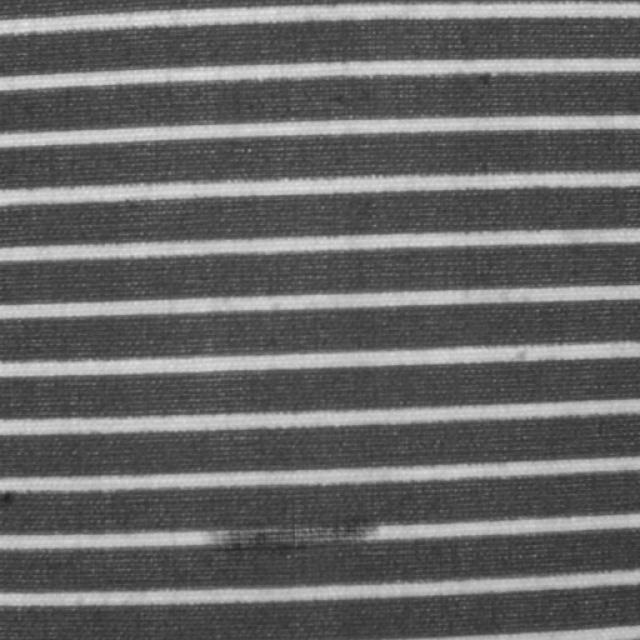Stain-Defect: (209, 515, 378, 574)
